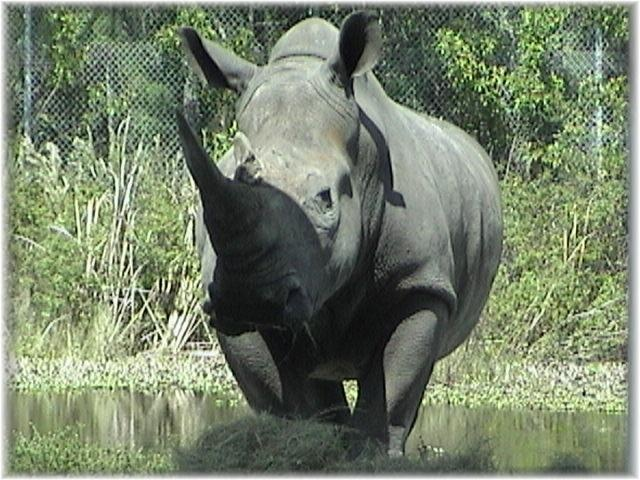rhino: (173, 9, 503, 463)
